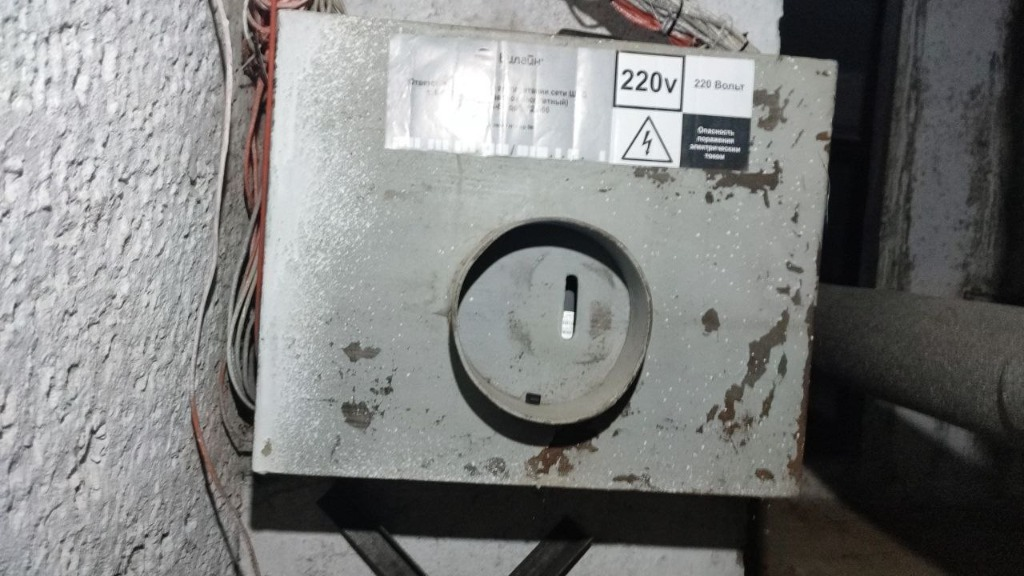shta-3: (245, 8, 844, 505)
